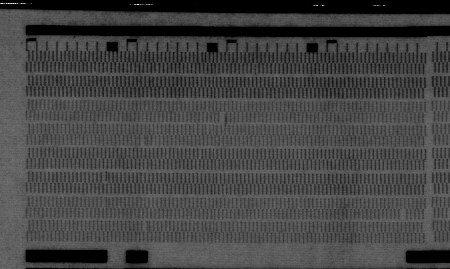Broken hole: (396, 209, 411, 221), (218, 111, 228, 124)
Oblique printing: (98, 171, 112, 186), (140, 219, 152, 233), (138, 136, 149, 148)
